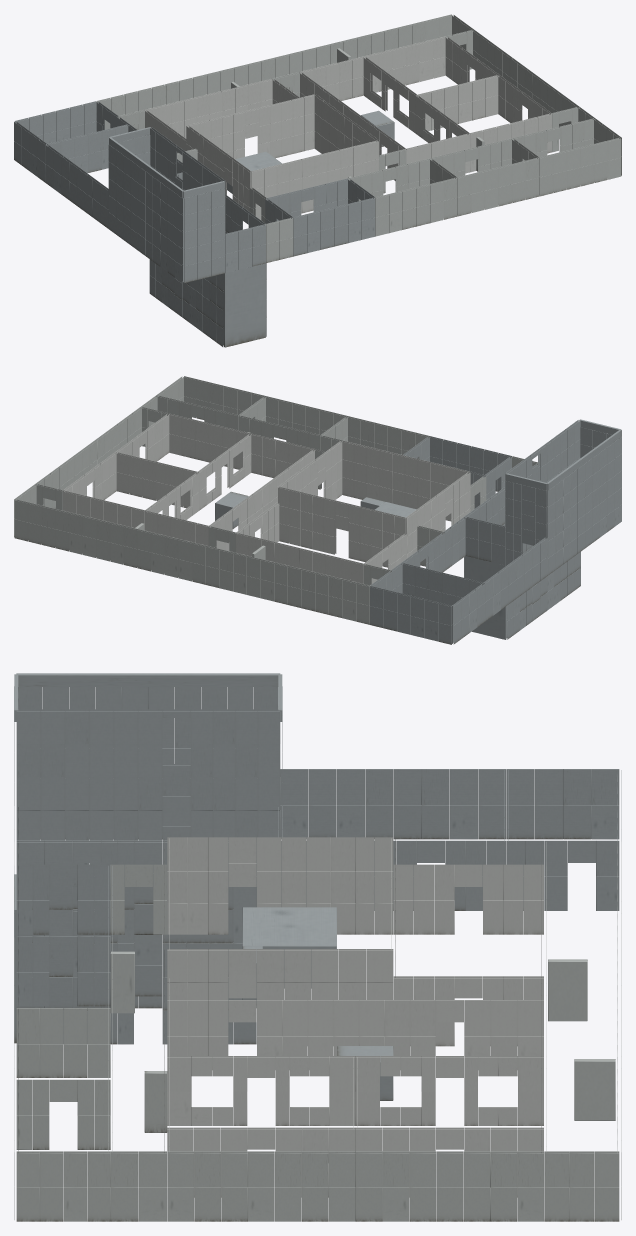
The model's file is WS_B4_Walls.fbx.
The picture shows the model from 3 angles, top to bottom: view 1: azimuth 30°, elevation 25°; view 2: azimuth 150°, elevation 25°; view 3: azimuth 270°, elevation 25°; orthographic projection. The views are drawn at different scales.
Parts seen in each view (by area): view 1: WS_B4_WS_Steel_5_3, WS_B4_WS_Steel_5_2, WS_B4_WS_Staff_0_3, WS_B4_WS_Staff_1_3, WS_B4_WS_Staff_2_3, WS_B4_WS_Steel_5_0, WS_B4_WS_Steel_4_3, WS_B4_WS_Clean_1_0, WS_B4_WS_Clean_3_1, WS_B4_WS_Steel_3_3, WS_B4_WS_Clean_2_1, WS_B4_WS_Staff_0_0 (+28 smaller); view 2: WS_B4_WS_Steel_5_2, WS_B4_WS_Steel_5_3, WS_B4_WS_Steel_5_0, WS_B4_WS_Staff_0_0, WS_B4_WS_Clean_3_2, WS_B4_WS_Clean_3_1, WS_B4_WS_Clean_1_2, WS_B4_WS_Clean_2_1, WS_B4_WS_Staff_0_3, WS_B4_WS_Staff_1_0, WS_B4_WS_Staff_1_3, WS_B4_WS_Staff_2_0 (+27 smaller); view 3: WS_B4_WS_Steel_5_3, WS_B4_WS_Steel_5_2, WS_B4_WS_Steel_4_3, WS_B4_WS_Clean_2_2, WS_B4_WS_Clean_2_1, WS_B4_WS_Clean_4_1, WS_B4_WS_Steel_5_1, WS_B4_WS_Staff_0_2, WS_B4_WS_Staff_0_0, WS_B4_WS_Staff_0_3, WS_B4_WS_Clean_4_2, WS_B4_WS_Steel_5_0 (+21 smaller).
Boxes of the visible parts, <box> form: WS_B4_WS_Steel_5_3: <box>109,137,265,347</box>; WS_B4_WS_Steel_5_2: <box>100,127,184,317</box>; WS_B4_WS_Staff_0_3: <box>523,107,621,192</box>; WS_B4_WS_Staff_1_3: <box>452,135,552,212</box>; WS_B4_WS_Staff_2_3: <box>370,150,470,229</box>; WS_B4_WS_Steel_5_0: <box>14,104,115,188</box>; WS_B4_WS_Steel_4_3: <box>225,190,334,336</box>; WS_B4_WS_Clean_1_0: <box>325,46,405,111</box>; WS_B4_WS_Clean_3_1: <box>221,100,292,158</box>; WS_B4_WS_Steel_3_3: <box>300,178,375,246</box>; WS_B4_WS_Clean_2_1: <box>289,89,367,153</box>; WS_B4_WS_Staff_0_0: <box>383,14,496,70</box>; WS_B4_WS_Steel_5_2: <box>464,449,577,639</box>; WS_B4_WS_Steel_5_3: <box>538,419,621,615</box>; WS_B4_WS_Steel_5_0: <box>383,566,492,644</box>; WS_B4_WS_Staff_0_0: <box>14,468,83,554</box>; WS_B4_WS_Clean_3_2: <box>354,444,430,509</box>; WS_B4_WS_Clean_3_1: <box>301,492,372,562</box>; WS_B4_WS_Clean_1_2: <box>209,424,288,500</box>; WS_B4_WS_Clean_2_1: <box>230,470,302,546</box>; WS_B4_WS_Staff_0_3: <box>140,376,252,427</box>; WS_B4_WS_Staff_1_0: <box>83,516,165,574</box>; WS_B4_WS_Staff_1_3: <box>227,392,334,444</box>; WS_B4_WS_Staff_2_0: <box>165,526,237,591</box>; WS_B4_WS_Steel_5_3: <box>14,673,280,1043</box>; WS_B4_WS_Steel_5_2: <box>162,674,308,1007</box>; WS_B4_WS_Steel_4_3: <box>14,830,162,1044</box>; WS_B4_WS_Clean_2_2: <box>167,939,311,1069</box>; WS_B4_WS_Clean_2_1: <box>308,930,482,1069</box>; WS_B4_WS_Clean_4_1: <box>306,837,482,934</box>; WS_B4_WS_Steel_5_1: <box>308,769,477,839</box>; WS_B4_WS_Staff_0_2: <box>167,1129,328,1221</box>; WS_B4_WS_Staff_0_0: <box>463,1093,621,1221</box>; WS_B4_WS_Staff_0_3: <box>14,1091,166,1221</box>; WS_B4_WS_Clean_4_2: <box>167,837,305,934</box>; WS_B4_WS_Steel_5_0: <box>478,769,621,839</box>.
Bounding box in the file's own units: 4826 × 1740 × 3226.
